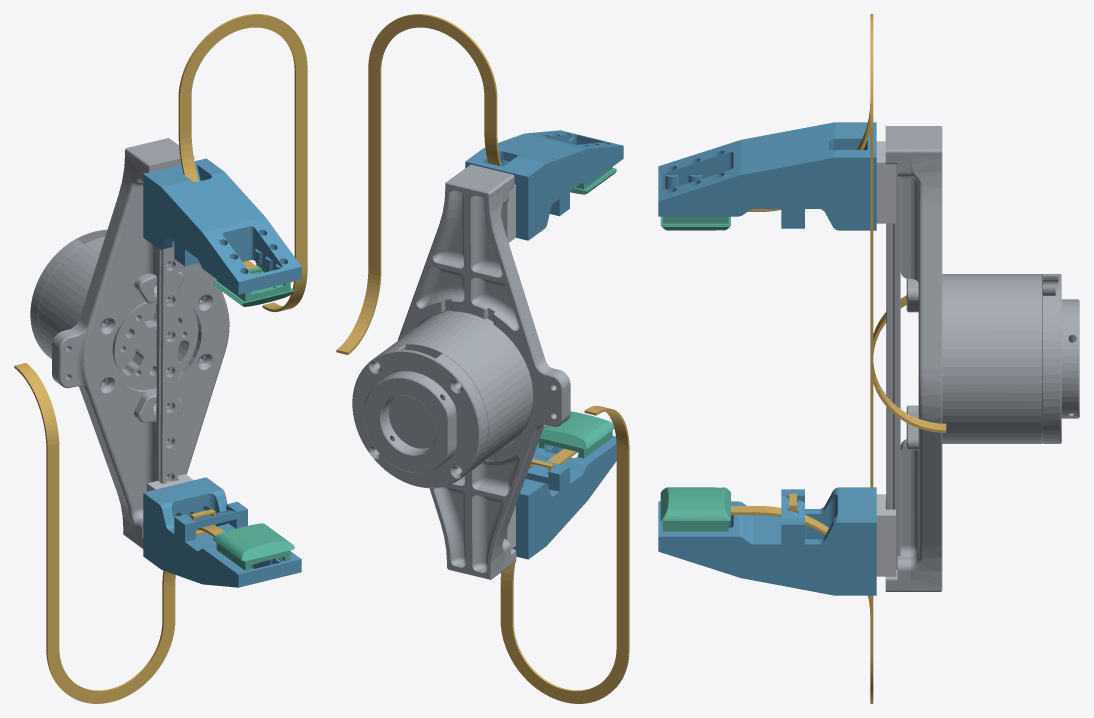
Rendered from assembly_open100.glb.
The picture shows the model from 3 angles, left to right: view 1: azimuth 30°, elevation 25°; view 2: azimuth 150°, elevation 25°; view 3: azimuth 270°, elevation 25°; orthographic projection. The views are drawn at different scales.
Visible parts, largest first — view 1: original_actuator_and_transmission, replacement_finger_2, replacement_finger_1, service_loop_envelope_1, service_loop_envelope_2, M2324_1, M2324_2, moving_harness_envelope_2; view 2: original_actuator_and_transmission, replacement_finger_2, service_loop_envelope_2, service_loop_envelope_1, replacement_finger_1, M2324_1, retained_carrier_2, moving_harness_envelope_1, moving_harness_envelope_2; view 3: original_actuator_and_transmission, replacement_finger_2, replacement_finger_1, M2324_1, service_loop_envelope_2, retained_carrier_1, retained_carrier_2, service_loop_envelope_1, M2324_2, moving_harness_envelope_1.
Boxes of the visible parts, x1=… form: original_actuator_and_transmission: x1=30, y1=138, x2=229, y2=548; replacement_finger_2: x1=143, y1=158, x2=301, y2=294; replacement_finger_1: x1=143, y1=477, x2=301, y2=587; service_loop_envelope_1: x1=14, y1=363, x2=175, y2=703; service_loop_envelope_2: x1=178, y1=14, x2=307, y2=312; M2324_1: x1=212, y1=523, x2=294, y2=570; M2324_2: x1=212, y1=263, x2=294, y2=306; moving_harness_envelope_2: x1=178, y1=130, x2=255, y2=267; original_actuator_and_transmission: x1=352, y1=164, x2=570, y2=579; replacement_finger_2: x1=465, y1=130, x2=623, y2=240; service_loop_envelope_2: x1=336, y1=14, x2=497, y2=354; service_loop_envelope_1: x1=500, y1=405, x2=629, y2=703; replacement_finger_1: x1=512, y1=435, x2=616, y2=559; M2324_1: x1=538, y1=411, x2=614, y2=458; retained_carrier_2: x1=501, y1=184, x2=515, y2=242; moving_harness_envelope_1: x1=500, y1=448, x2=577, y2=588; moving_harness_envelope_2: x1=484, y1=130, x2=501, y2=166; original_actuator_and_transmission: x1=885, y1=126, x2=1079, y2=591; replacement_finger_2: x1=658, y1=122, x2=876, y2=230; replacement_finger_1: x1=658, y1=487, x2=876, y2=595; M2324_1: x1=660, y1=487, x2=730, y2=531; service_loop_envelope_2: x1=870, y1=14, x2=946, y2=432; retained_carrier_1: x1=876, y1=494, x2=895, y2=576; retained_carrier_2: x1=876, y1=141, x2=895, y2=223; service_loop_envelope_1: x1=870, y1=295, x2=906, y2=703; M2324_2: x1=660, y1=190, x2=730, y2=230; moving_harness_envelope_1: x1=731, y1=506, x2=873, y2=616.
Size of the model in its own units: 0.1152 by 0.2766 by 0.1412.
